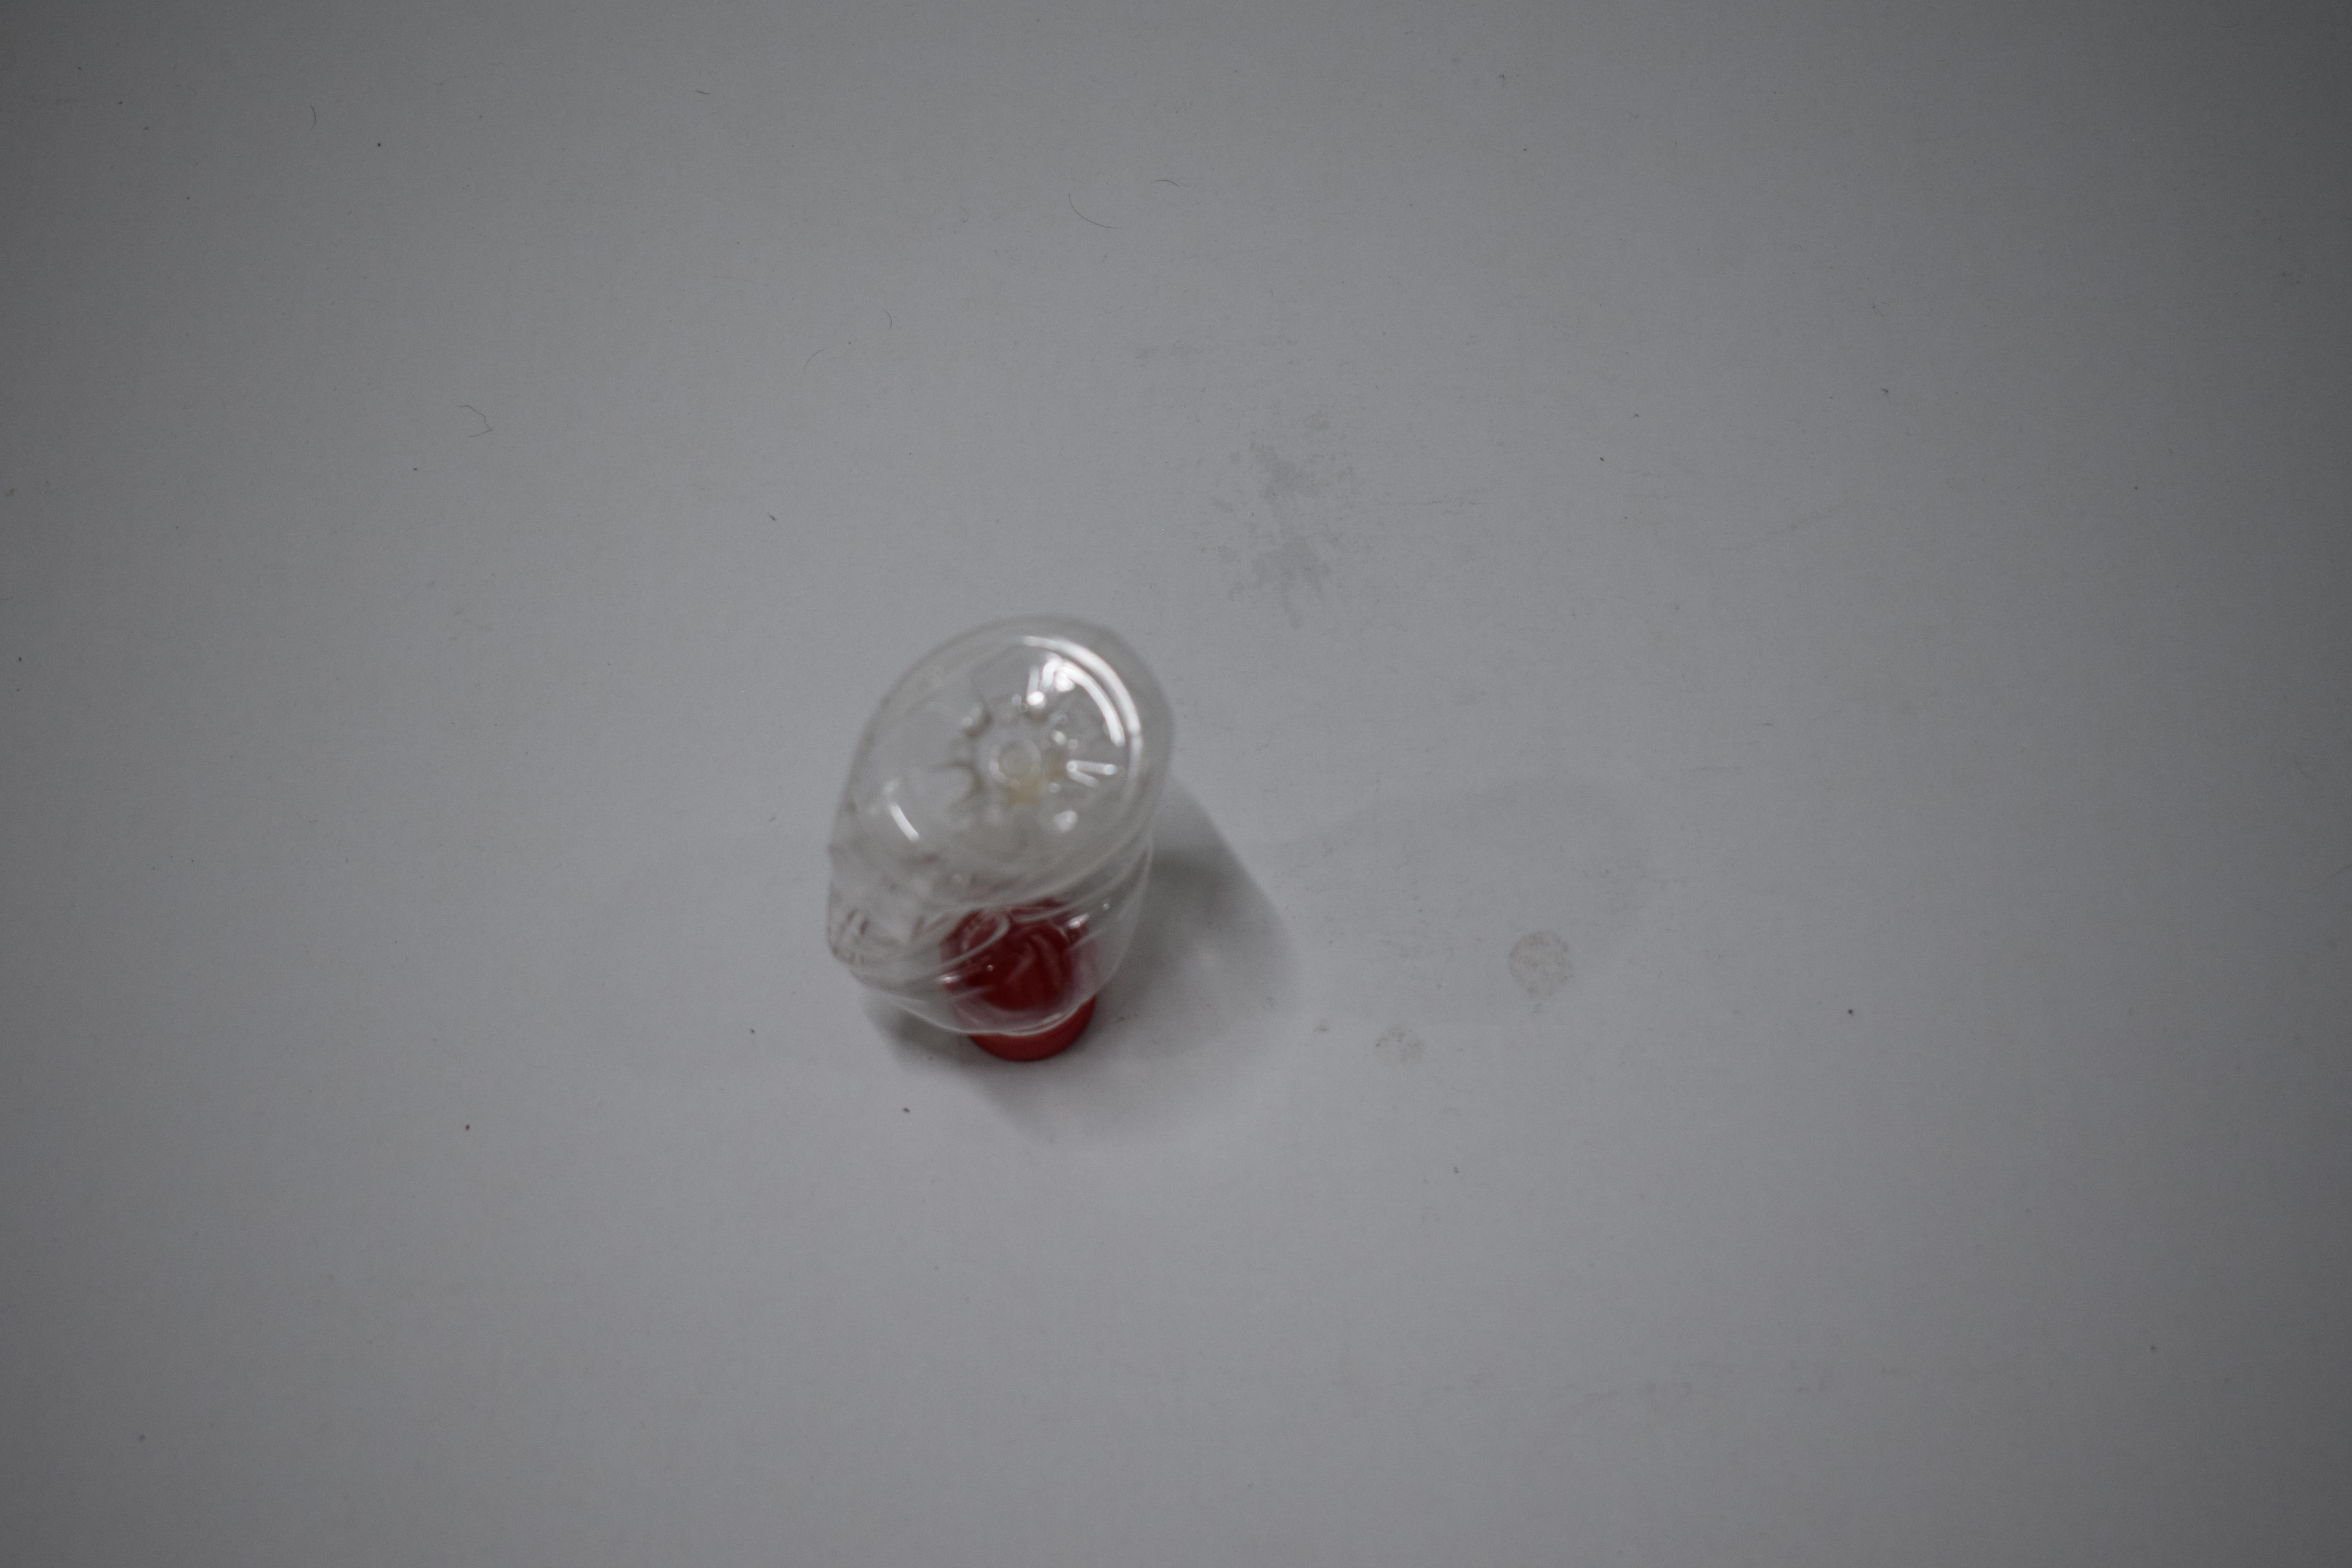bottle: (870, 0, 1110, 282)
